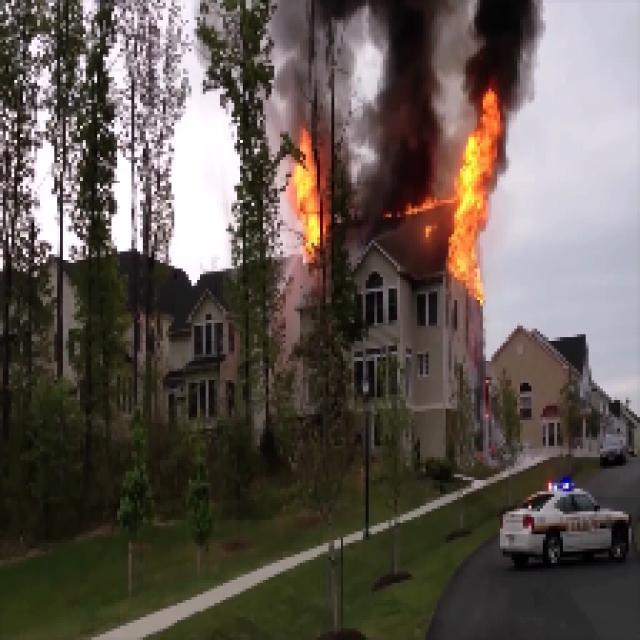Fire: (450, 92, 500, 293), (291, 138, 329, 242)
Smoke: (372, 5, 440, 206), (298, 2, 357, 140), (477, 4, 531, 80)
